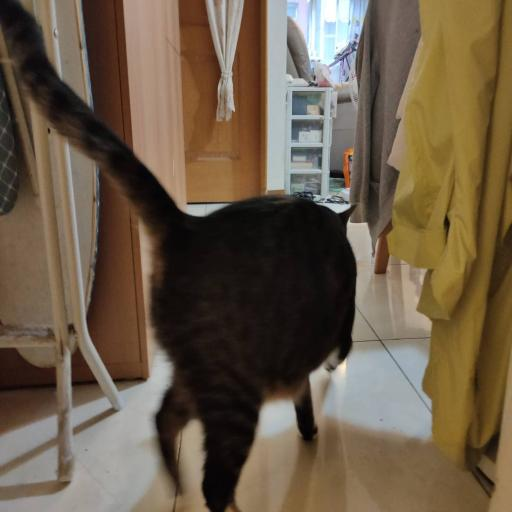cat: (146, 193, 360, 439)
